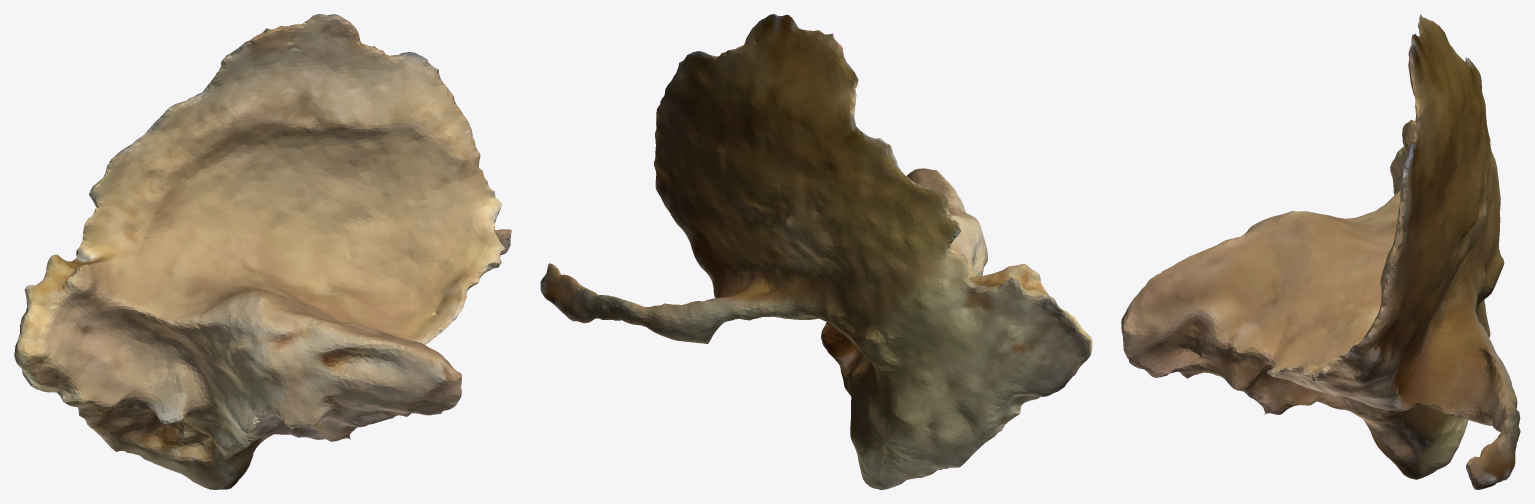
The model's file is os_temporal_gauche_humain.glb.
The picture shows the model from 3 angles, left to right: view 1: azimuth 30°, elevation 25°; view 2: azimuth 150°, elevation 25°; view 3: azimuth 270°, elevation 25°; orthographic projection. The views are drawn at different scales.
Visible parts, largest first — view 1: Zygomatiques_0; view 2: Zygomatiques_0; view 3: Zygomatiques_0.
Part boxes in pixels (bbox=[...]): Zygomatiques_0: bbox=[14, 14, 511, 489]; Zygomatiques_0: bbox=[540, 14, 1092, 489]; Zygomatiques_0: bbox=[1121, 14, 1520, 489].
Bounding box in the file's own units: 2.33 × 1.92 × 1.41.
Materials: 1 (1 with a texture image).
